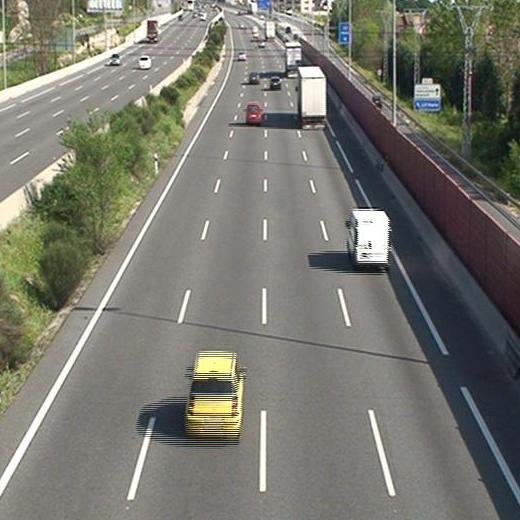car: (185, 353, 243, 433), (269, 77, 280, 90), (248, 72, 260, 83), (237, 52, 245, 61)
truck: (298, 68, 327, 129), (285, 42, 300, 78)
van: (348, 210, 391, 265), (246, 103, 261, 124)
